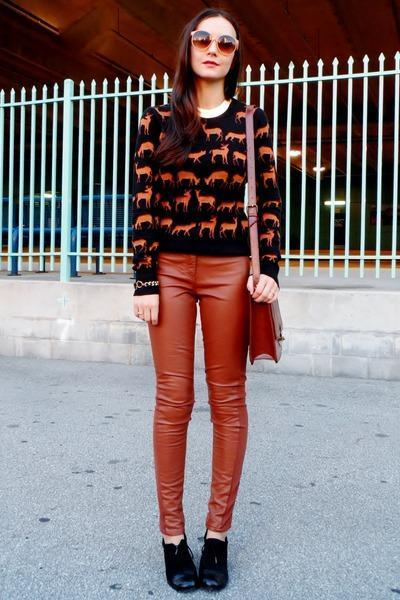bag: (238, 180, 284, 364)
jacket: (132, 86, 287, 299)
pants: (146, 254, 271, 539)
shoe: (162, 540, 227, 592)
sunglass: (204, 21, 238, 53)
